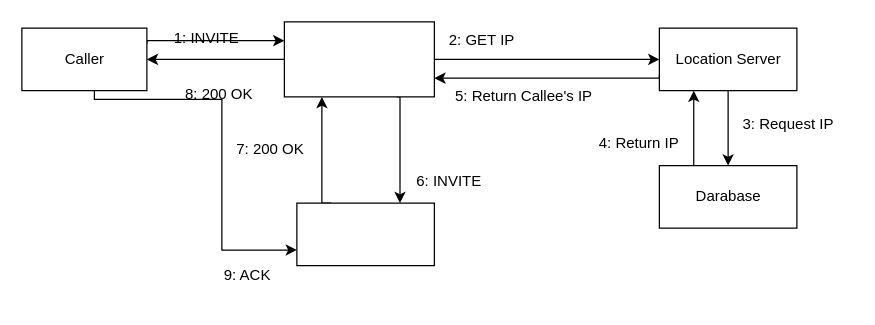
The diagram is 875 pixels wide and 325 high, and some of its shapes have lost their labels. Each missing label, with the centre of its shape:
Callee: (365,234)
Proxy: (358,59)
